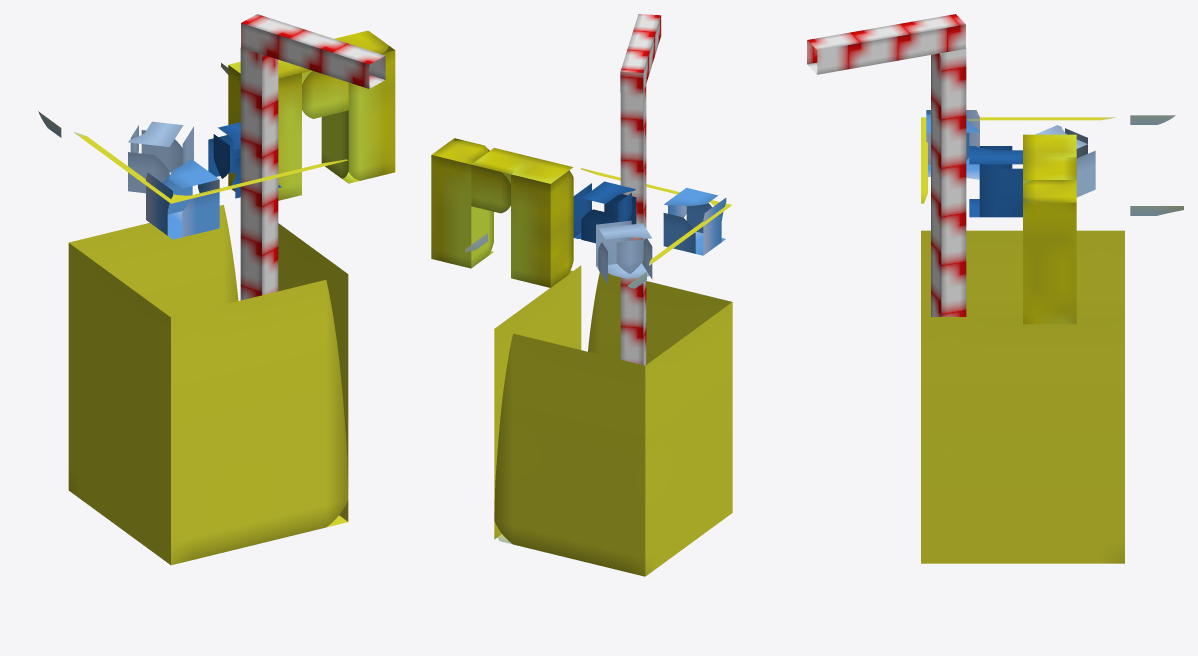
The model's file is limonata_glass.obj.
3 views of the same model, side by side, from view 1: azimuth 30°, elevation 25°; view 2: azimuth 150°, elevation 25°; view 3: azimuth 270°, elevation 25° (orthographic). The views are drawn at different scales.
Visible parts, largest first — view 1: cube; view 2: cube; view 3: cube.
Part boxes in pixels (x1,y1,x2,y2): cube: (38,14,395,565); cube: (431,14,732,576); cube: (807,14,1183,563).
Size of the model in its own units: 0.4375 by 0.7188 by 0.4388.
